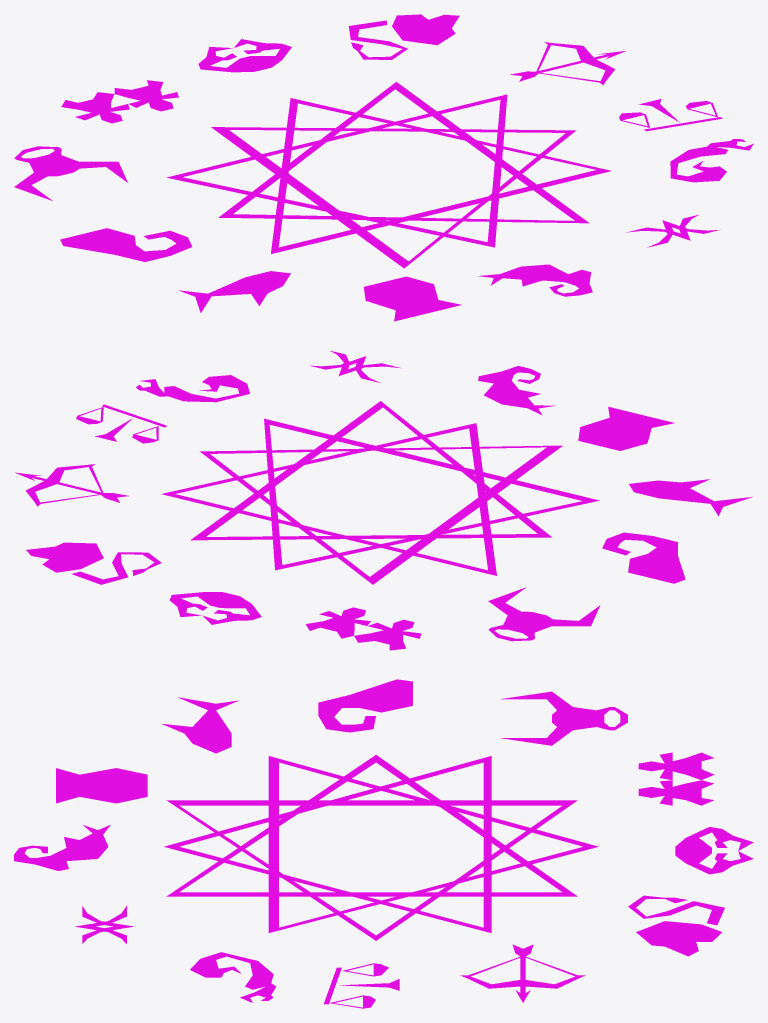
File: zodiac.obj
The picture shows the model from 3 angles, top to bottom: view 1: azimuth 30°, elevation 25°; view 2: azimuth 150°, elevation 25°; view 3: azimuth 270°, elevation 25°; orthographic projection. The views are drawn at different scales.
Visible parts, largest first — view 1: zodiac_back; view 2: zodiac_back; view 3: zodiac_back.
Part boxes in pixels (box(x1,y1,x2,y2)): zodiac_back: box(14, 14, 753, 321); zodiac_back: box(15, 350, 753, 650); zodiac_back: box(14, 679, 753, 1008).
Bounding box in the file's own units: 2.97 × 0 × 2.82.
